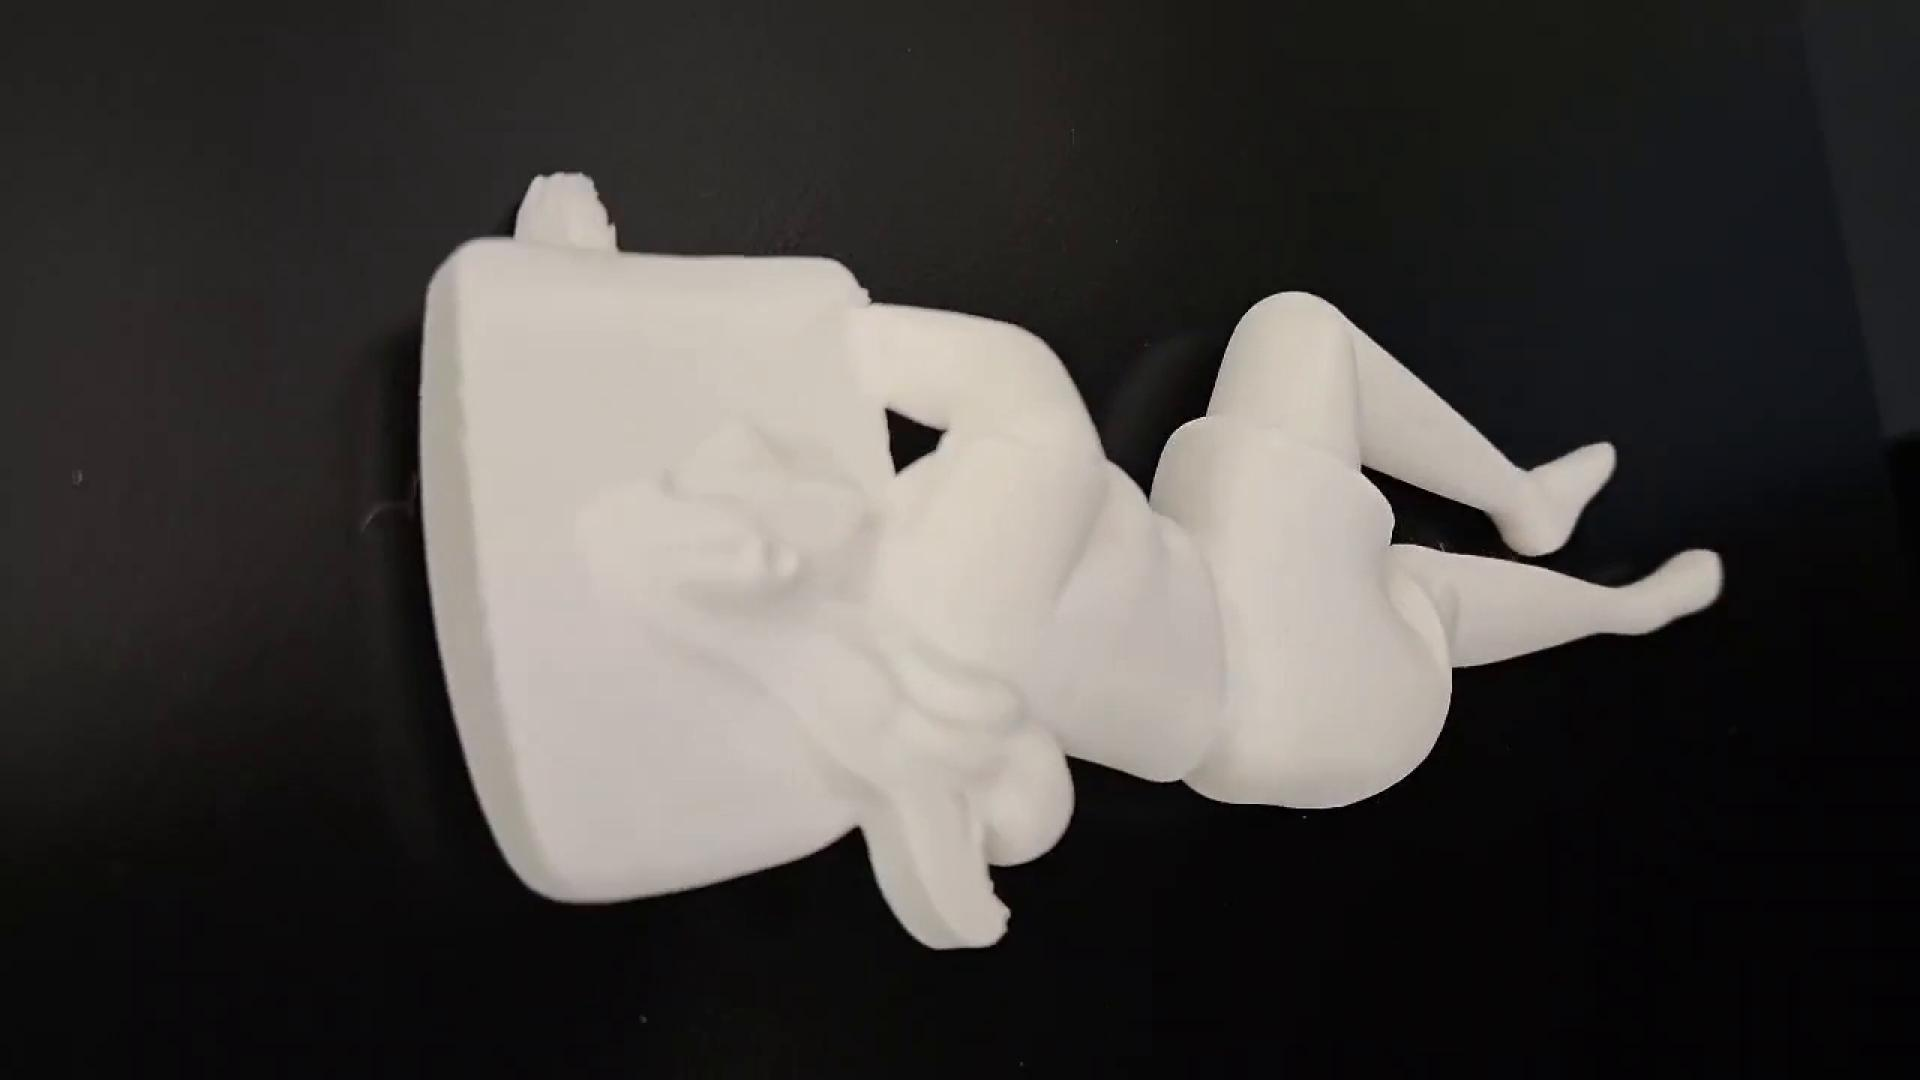Good-style: (413, 162, 1731, 971)
